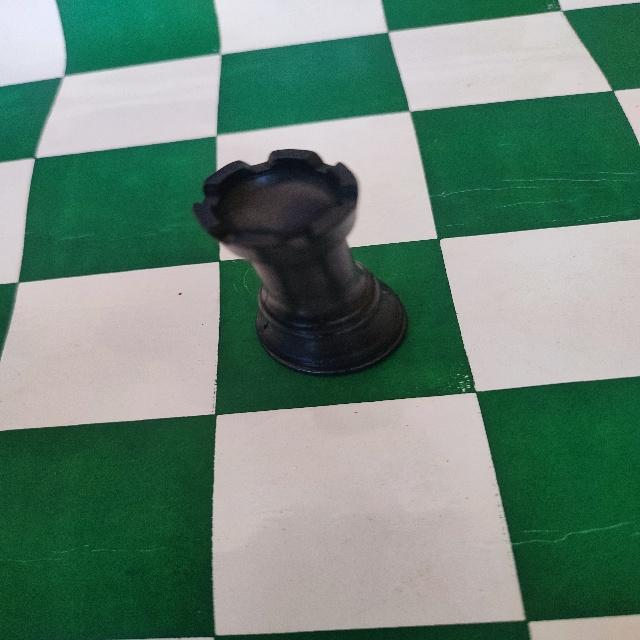Rook: (187, 143, 411, 379)
